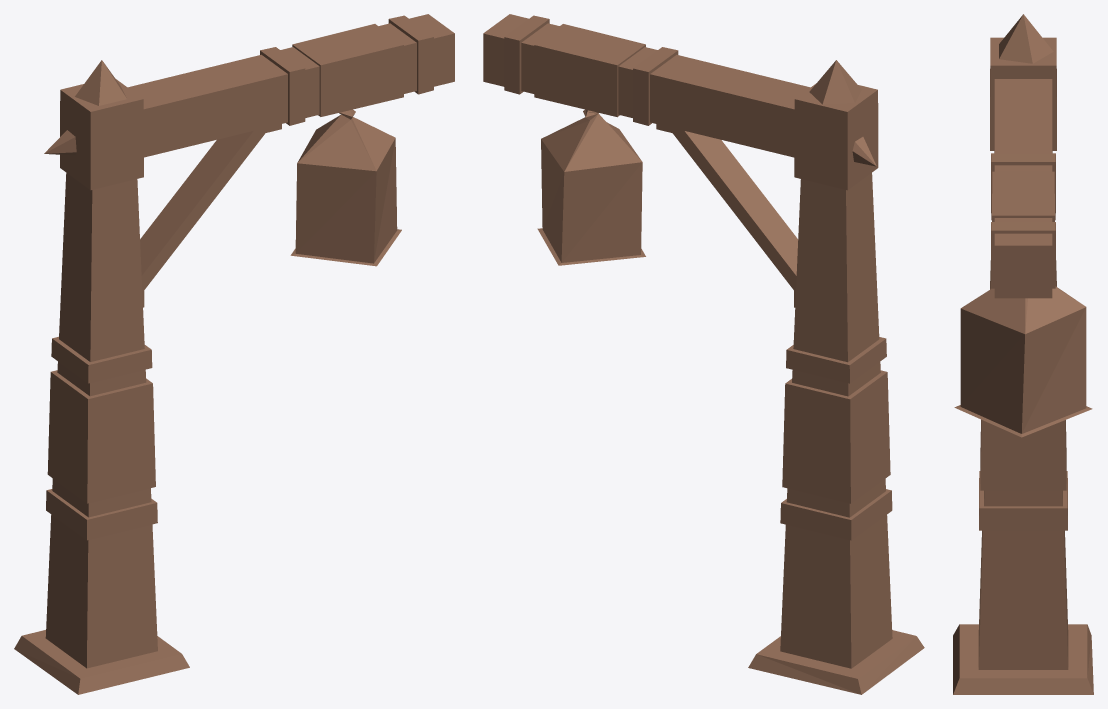
File: street-lamp.lod1.glb
3 views of the same model, side by side, from view 1: azimuth 30°, elevation 25°; view 2: azimuth 150°, elevation 25°; view 3: azimuth 270°, elevation 25° (orthographic). The views are drawn at different scales.
Parts seen in each view (by area): view 1: Box016__0; view 2: Box016__0; view 3: Box016__0.
Boxes of the visible parts, x1=… form: Box016__0: x1=14, y1=14, x2=454, y2=694; Box016__0: x1=483, y1=14, x2=924, y2=694; Box016__0: x1=953, y1=14, x2=1093, y2=694.
Bounding box in the file's own units: 4.15 × 5.99 × 1.17.
